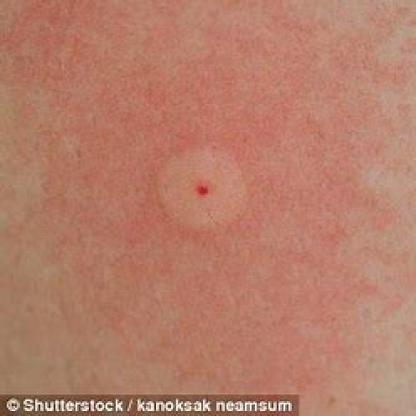Wasp: (132, 130, 268, 240)
